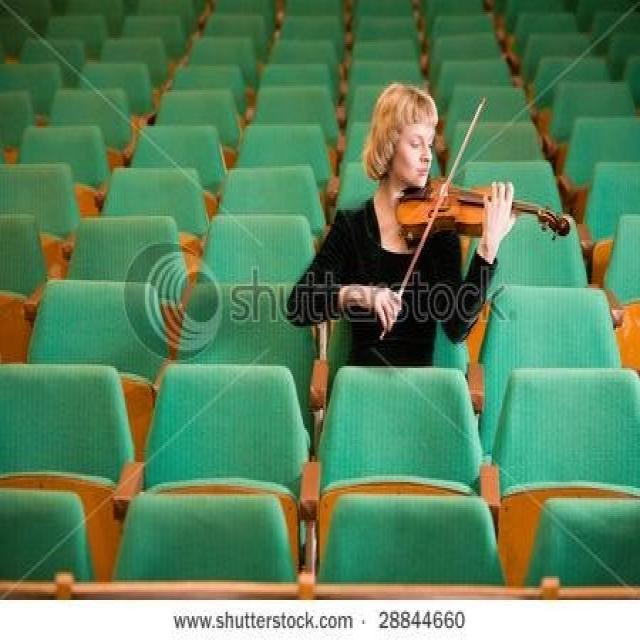violin: (398, 174, 573, 243)
